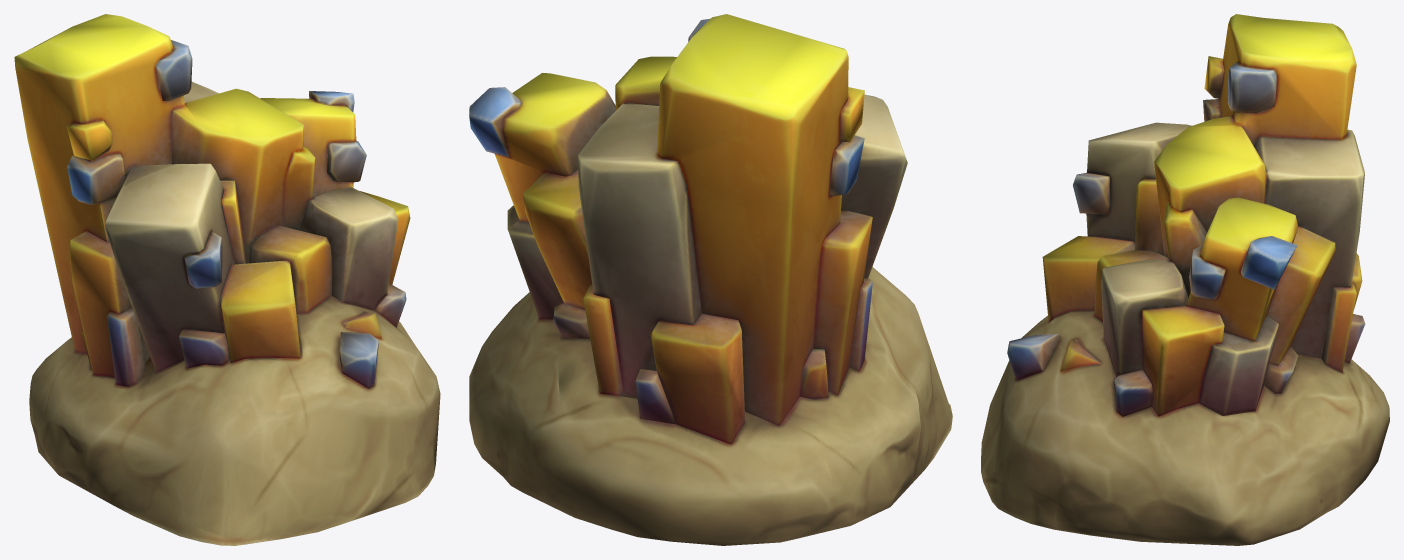
The model's file is SM_Gem_Topaz_001.fbx.
3 views of the same model, side by side, from view 1: azimuth 30°, elevation 25°; view 2: azimuth 150°, elevation 25°; view 3: azimuth 270°, elevation 25° (orthographic). The views are drawn at different scales.
Visible parts, largest first — view 1: SM_Gem_Topaz_001; view 2: SM_Gem_Topaz_001; view 3: SM_Gem_Topaz_001.
Part boxes in pixels (x1,y1,x2,y2): SM_Gem_Topaz_001: (14,14,440,545); SM_Gem_Topaz_001: (469,14,952,545); SM_Gem_Topaz_001: (981,14,1389,545).
Bounding box in the file's own units: 61.96 × 68.1 × 63.38.
